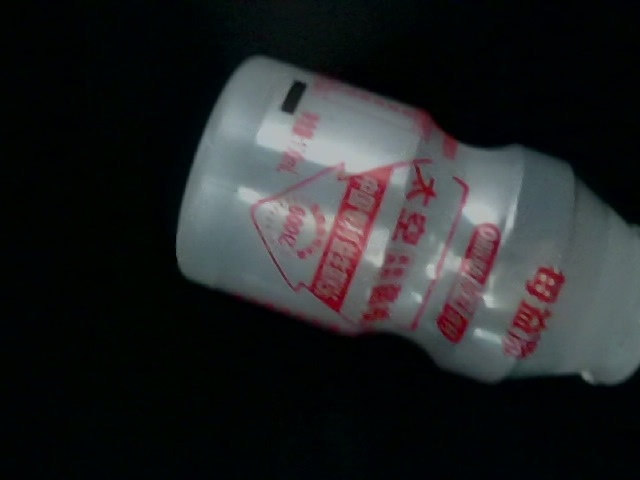CYLJ: (258, 133, 613, 398)
